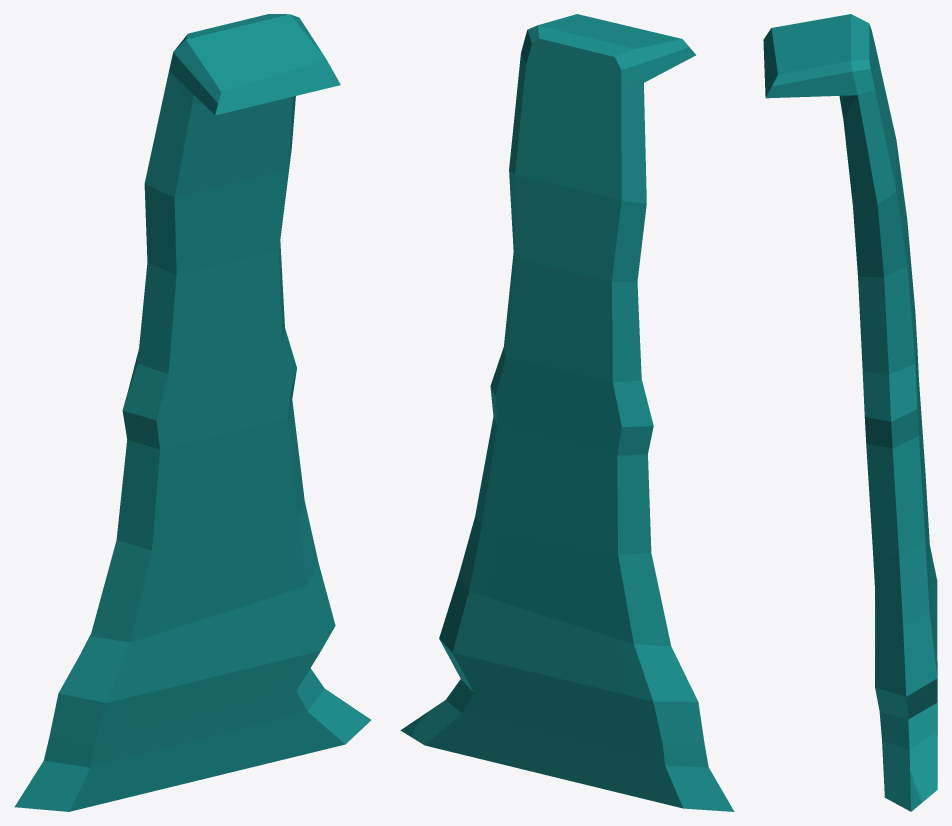
The model's file is CascadaAnimada_000009.obj.
3 views of the same model, side by side, from view 1: azimuth 30°, elevation 25°; view 2: azimuth 150°, elevation 25°; view 3: azimuth 270°, elevation 25° (orthographic). The views are drawn at different scales.
Parts seen in each view (by area): view 1: Cube.053, Cube.054; view 2: Cube.053, Cube.054; view 3: Cube.053, Cube.054.
Part boxes in pixels (x1=…): Cube.053: x1=14, y1=14, x2=370, y2=811; Cube.054: x1=169, y1=14, x2=340, y2=115; Cube.053: x1=400, y1=25, x2=734, y2=811; Cube.054: x1=538, y1=14, x2=695, y2=82; Cube.053: x1=839, y1=14, x2=937, y2=811; Cube.054: x1=763, y1=14, x2=857, y2=98.
Size of the model in its own units: 136 by 277 by 62.23.
